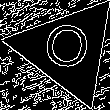O_S: (40, 21, 94, 79)
